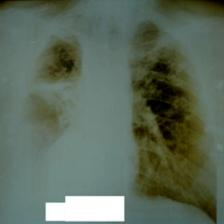tuberculosis: (3, 9, 220, 224)
